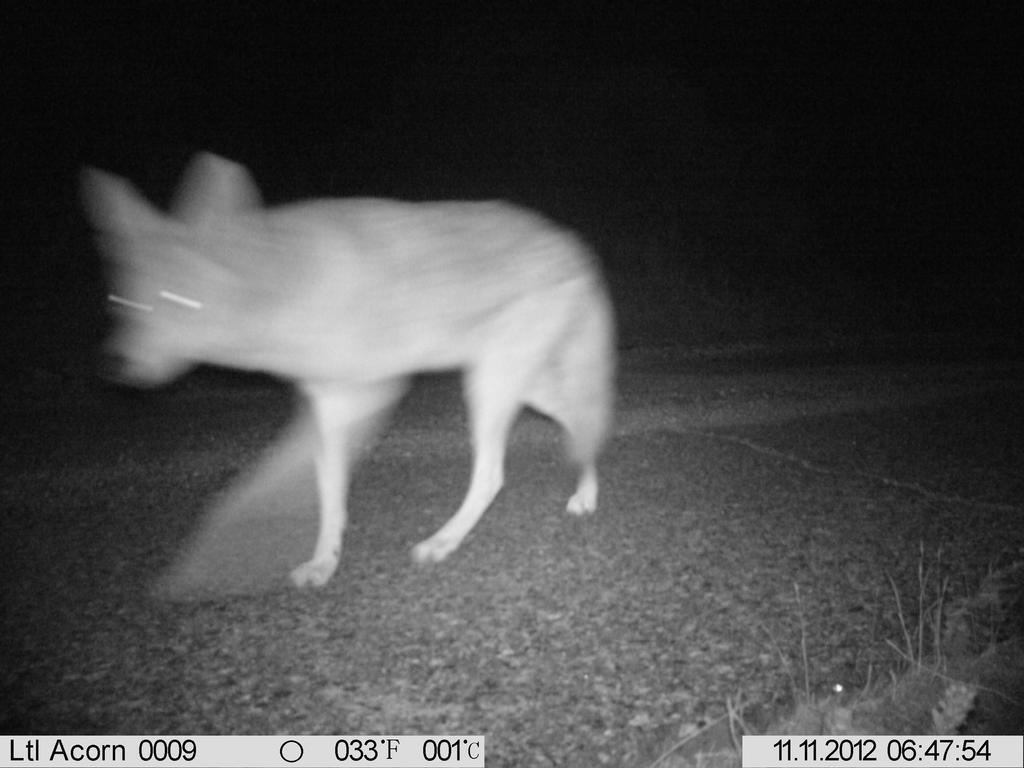coyote: (72, 145, 653, 611)
